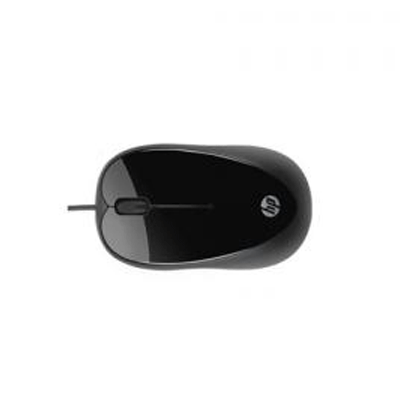hp-mouse-X1000: (57, 126, 324, 287)
